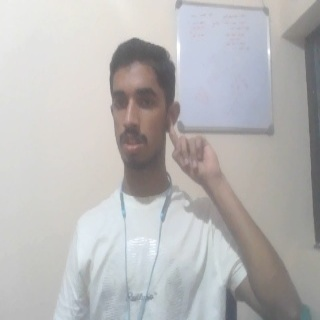Deaf: (167, 115, 228, 188)
Face: (108, 36, 181, 172)
